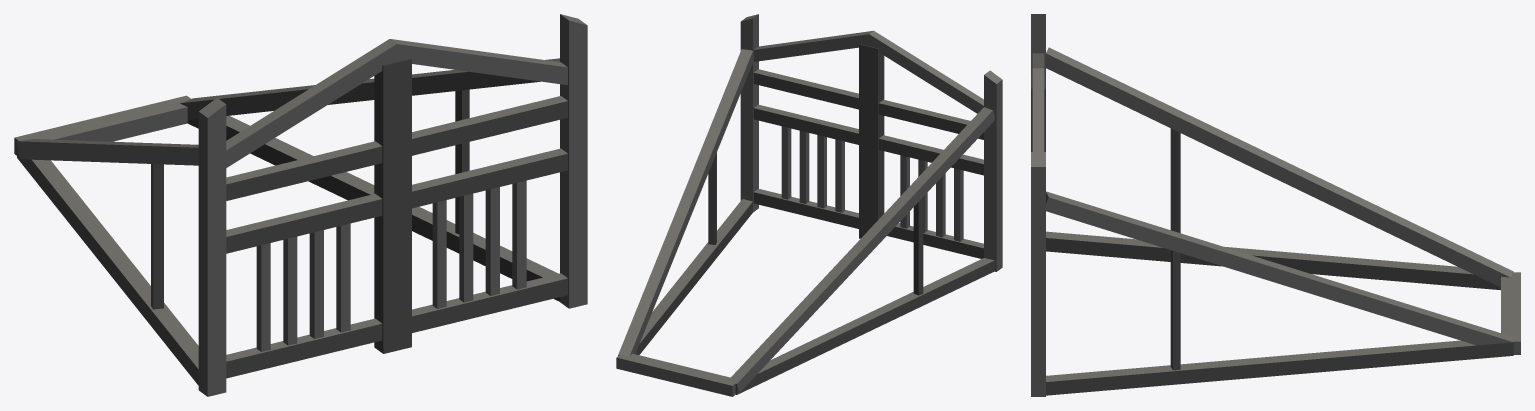
Rendered from Barricade_1.FBX.
3 renders of one model, left to right at view 1: azimuth 30°, elevation 25°; view 2: azimuth 150°, elevation 25°; view 3: azimuth 270°, elevation 25°, orthographic. The views are drawn at different scales.
Parts seen in each view (by area): view 1: Barricade_1; view 2: Barricade_1; view 3: Barricade_1.
Boxes of the visible parts, x1=… form: Barricade_1: x1=14, y1=14, x2=587, y2=396; Barricade_1: x1=616, y1=14, x2=1002, y2=396; Barricade_1: x1=1031, y1=14, x2=1520, y2=396.
Size of the model in its own units: 2.08 by 1.6 by 2.82.
1 material, 1 textured.
